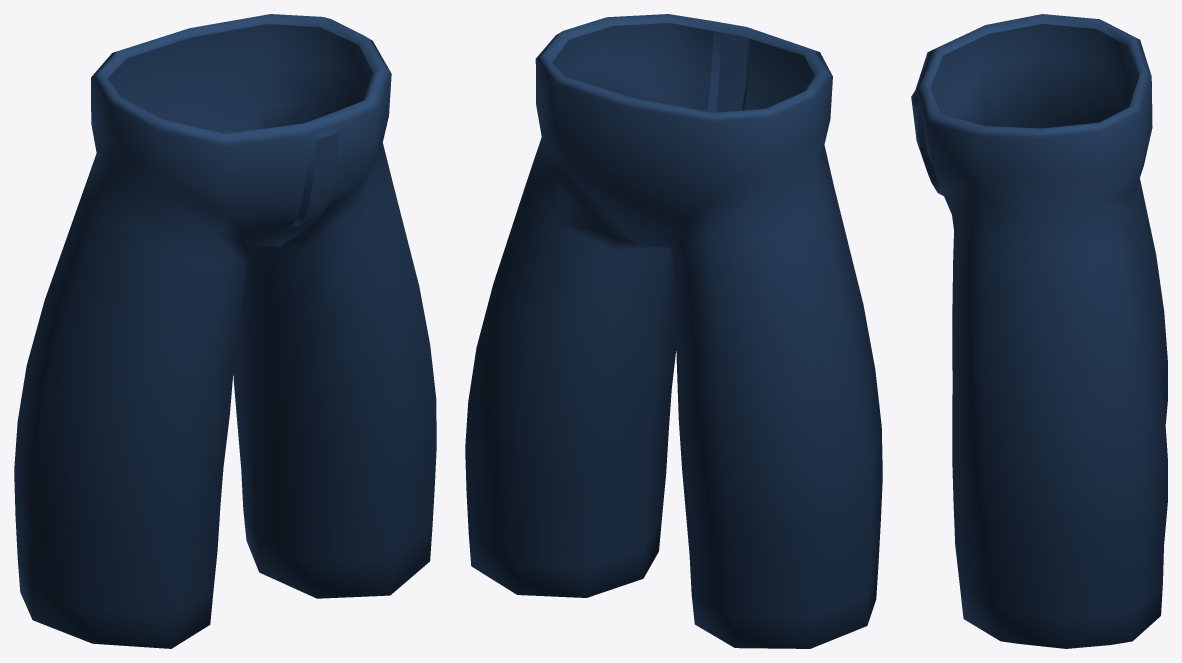
3 renders of one model, left to right at view 1: azimuth 30°, elevation 25°; view 2: azimuth 150°, elevation 25°; view 3: azimuth 270°, elevation 25°, orthographic. The views are drawn at different scales.
Parts seen in each view (by area): view 1: Bottom_54.002; view 2: Bottom_54.002; view 3: Bottom_54.002.
Boxes of the visible parts, box(x1,y1,x2,y2) form: Bottom_54.002: box(14, 14, 436, 648); Bottom_54.002: box(465, 14, 882, 648); Bottom_54.002: box(911, 14, 1167, 648).
Bounding box in the file's own units: 36.19 × 46.86 × 21.51.
